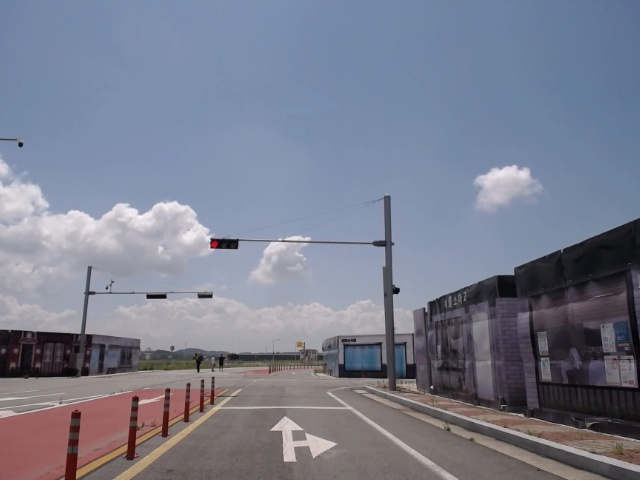red_3: (208, 240, 240, 249)
